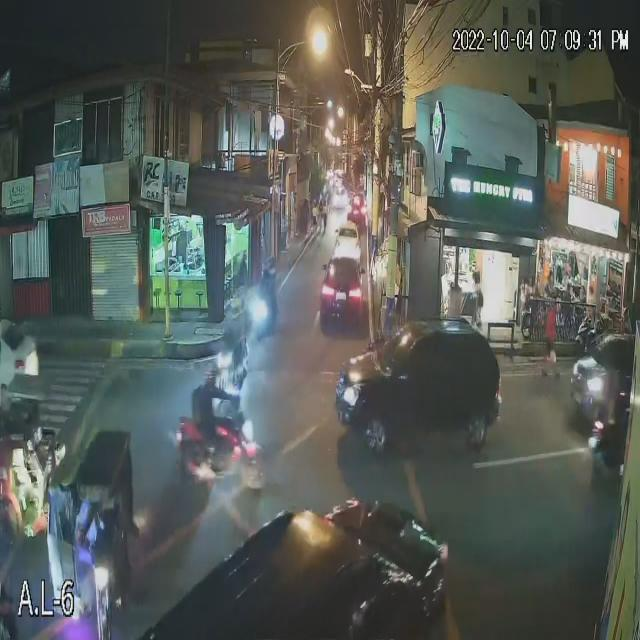helmet: (224, 296, 250, 320)
motorcycle: (177, 408, 267, 493), (211, 323, 254, 395)
rider: (191, 386, 248, 478), (216, 284, 254, 374)
